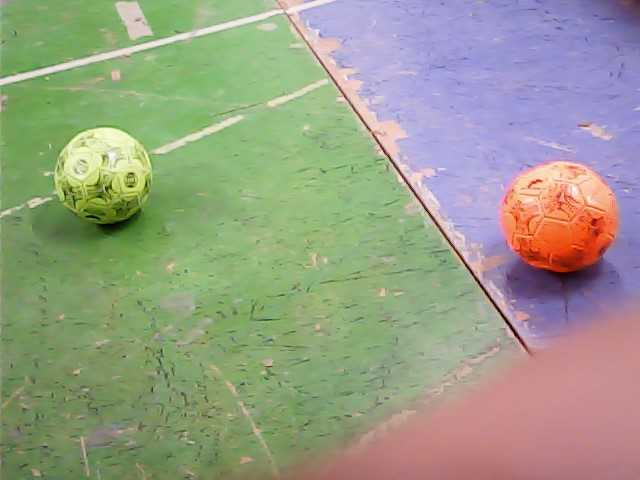Green_ball: (53, 125, 163, 235)
Orange_ball: (495, 158, 624, 287)
